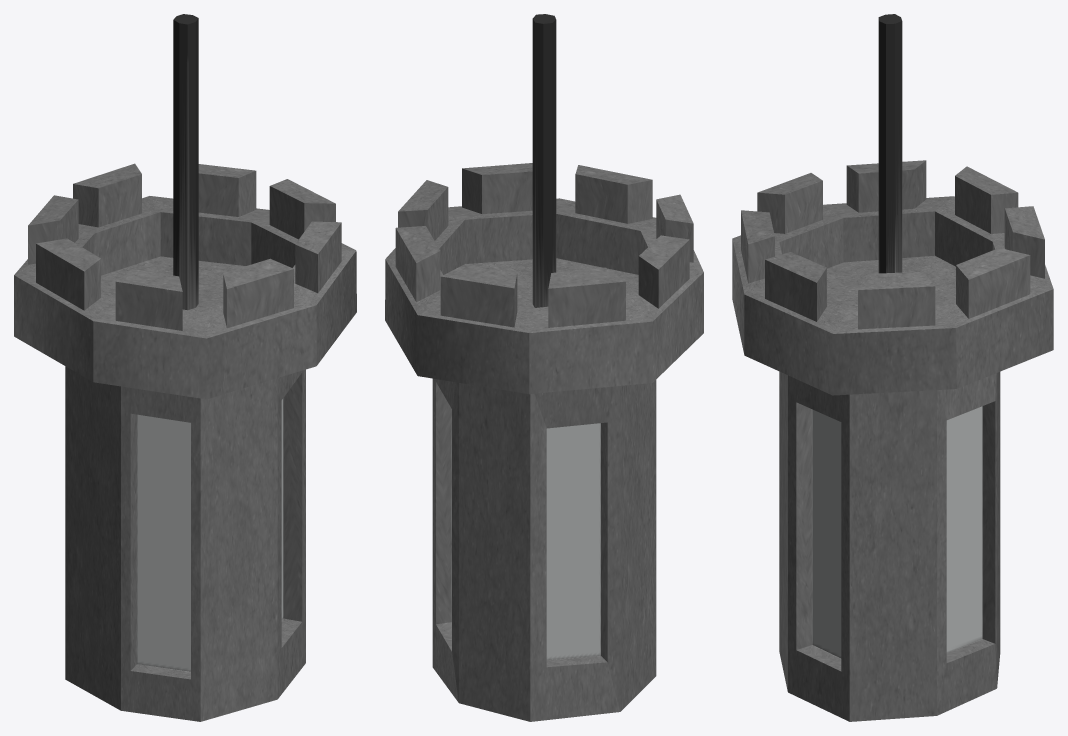
The model's file is NuclearTower.fbx.
The picture shows the model from 3 angles, left to right: view 1: azimuth 30°, elevation 25°; view 2: azimuth 150°, elevation 25°; view 3: azimuth 270°, elevation 25°; orthographic projection.
Parts seen in each view (by area): view 1: Tower; view 2: Tower; view 3: Tower.
Part boxes in pixels (x1=…): Tower: x1=14, y1=14, x2=356, y2=721; Tower: x1=385, y1=14, x2=703, y2=721; Tower: x1=732, y1=14, x2=1053, y2=721.
Size of the model in its own units: 0.0983 by 0.2176 by 0.0969.
1 material, 1 textured.
